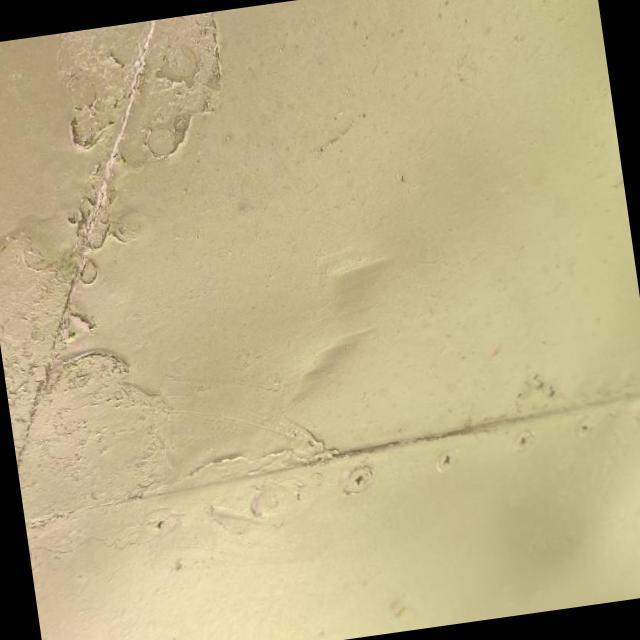dent: (265, 322, 385, 413)
